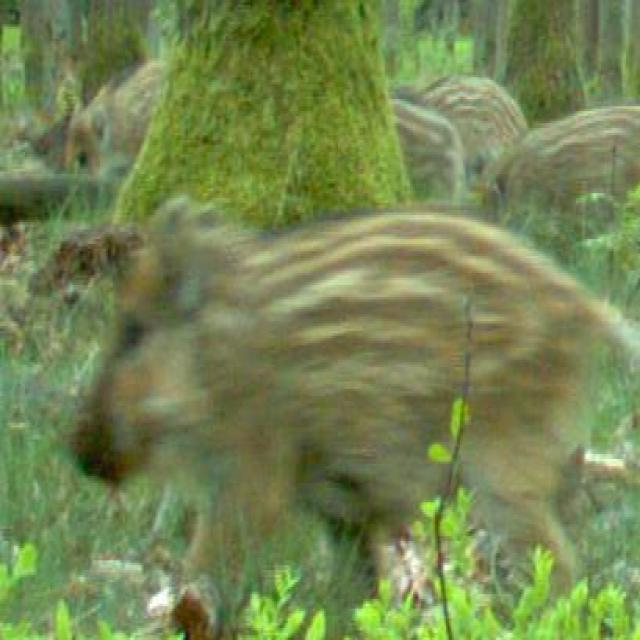pig: (40, 169, 640, 640)
